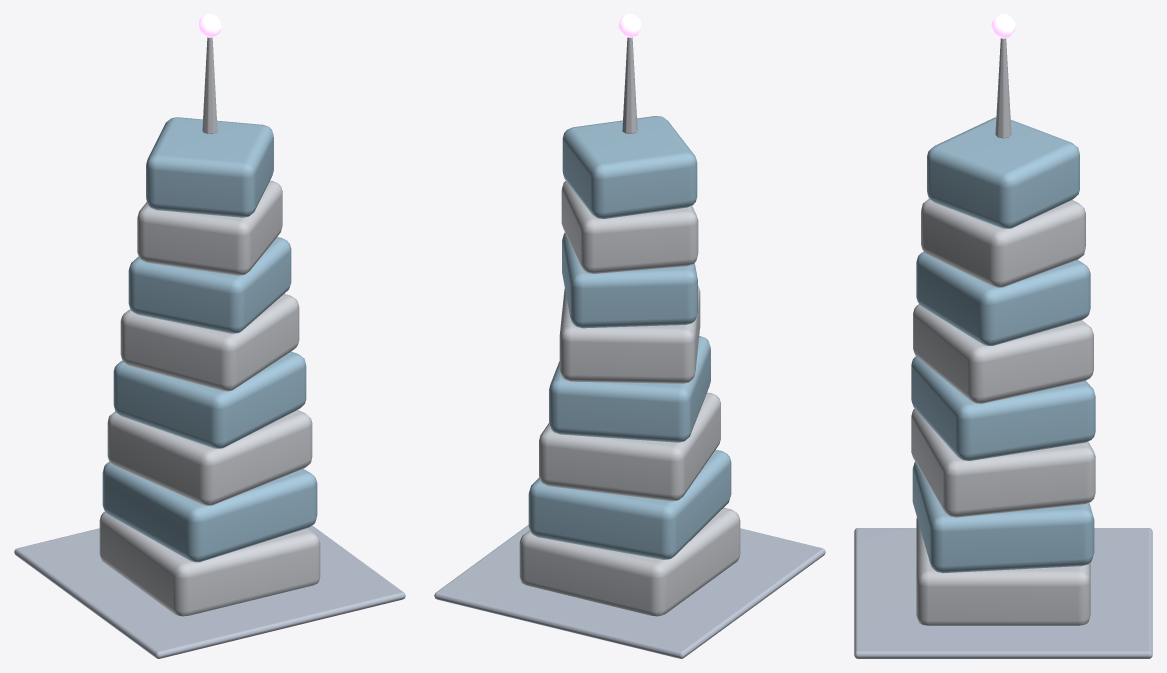
3 renders of one model, left to right at view 1: azimuth 30°, elevation 25°; view 2: azimuth 150°, elevation 25°; view 3: azimuth 270°, elevation 25°, orthographic. The views are drawn at different scales.
Visible parts, largest first — view 1: Cube; view 2: Cube; view 3: Cube.
Part boxes in pixels (x1,y1,x2,y2): Cube: (14,14,405,658); Cube: (434,14,825,658); Cube: (854,14,1152,658).
Size of the model in its own units: 0.72 by 1.55 by 0.72.
